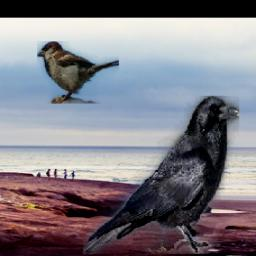Crow: (84, 96, 240, 254)
Sparrow: (38, 41, 120, 104)
